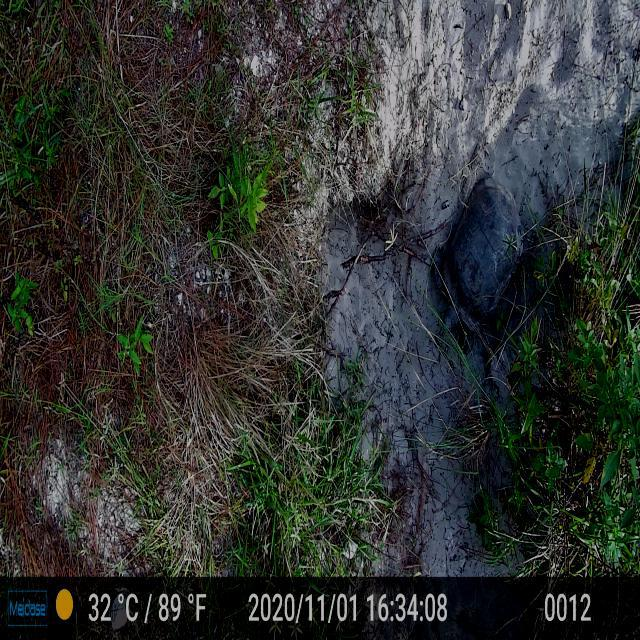tortoise: (435, 172, 532, 360)
